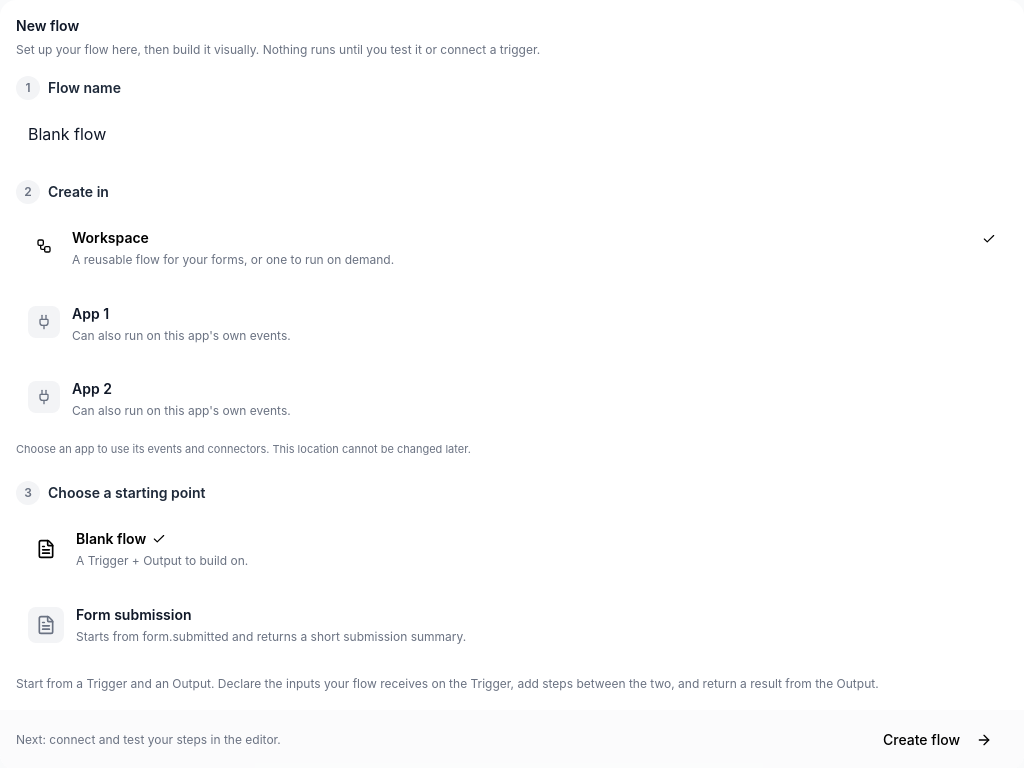
it: where a new automation is created › offers a button an app while they are few
Later steps or results of the test are not shown.
Click the button "App 2 Can also run on this app's own events." at (44, 397), box [16,367,1008,432]
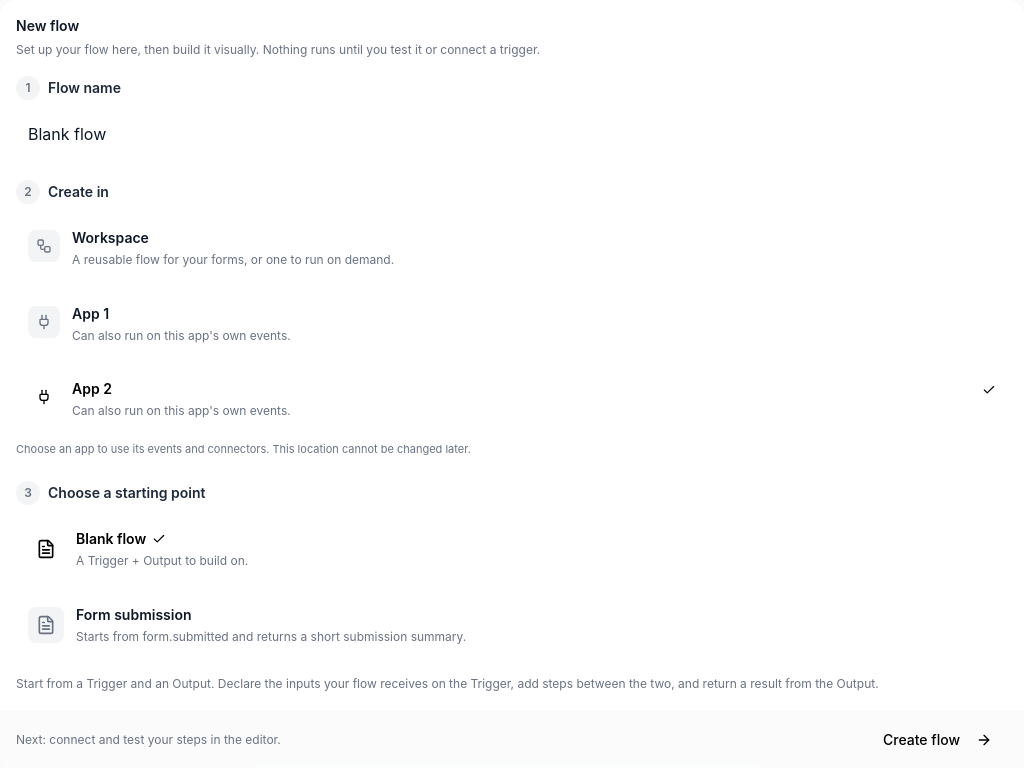
Check: the button "App 2 Can also run on this app's own events." is pressed, box [16,367,1008,432]
